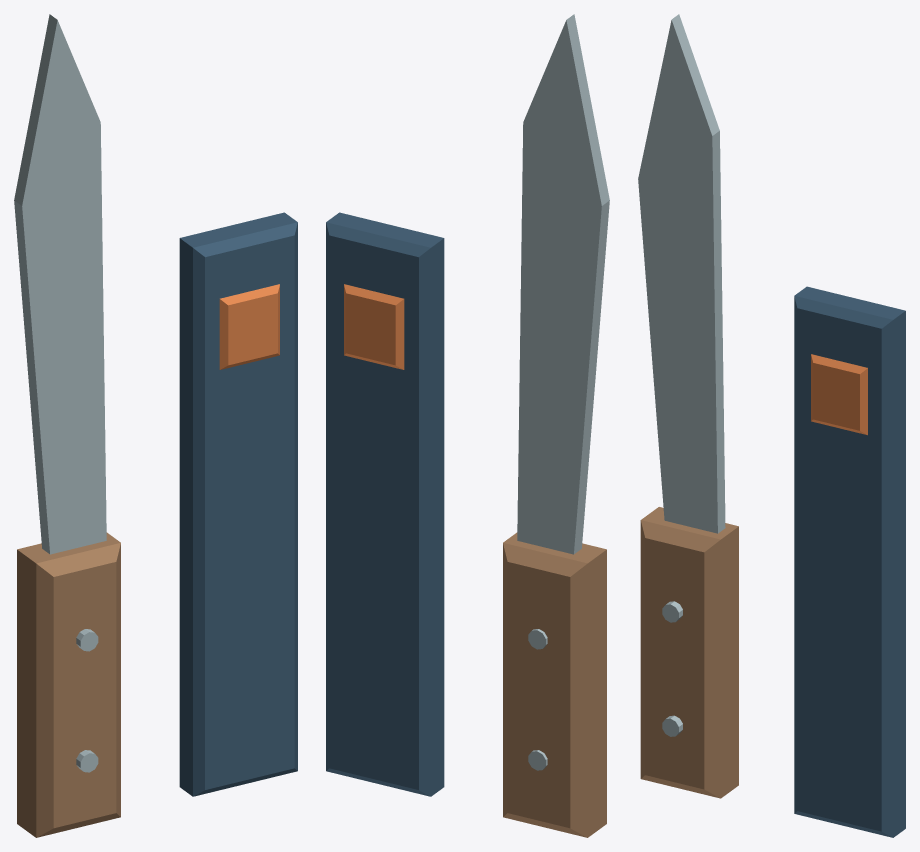
Rendered from harbor-and-tackle-fillet-knife-38ada7d8__19581.glb.
The picture shows the model from 3 angles, left to right: view 1: azimuth 30°, elevation 25°; view 2: azimuth 150°, elevation 25°; view 3: azimuth 330°, elevation 25°; orthographic projection. The views are drawn at different scales.
Parts seen in each view (by area): view 1: navy, metal, cedar, orange; view 2: navy, metal, cedar, orange; view 3: navy, metal, cedar, orange.
Part boxes in pixels (x1,y1,x2,y2): navy: (179,212,297,796); metal: (14,14,106,772); cedar: (17,532,120,837); orange: (219,284,279,369); navy: (326,212,444,796); metal: (517,14,609,770); cedar: (503,532,606,837); orange: (344,284,404,369); navy: (794,286,905,837); metal: (638,14,725,736); cedar: (640,507,738,798); orange: (811,354,867,435).
Bounding box in the file's own units: 0.177 × 0.5 × 0.043.
